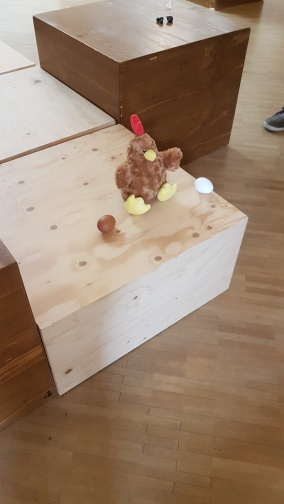chicken: (114, 113, 183, 217)
egg: (191, 174, 215, 194), (96, 214, 118, 234)
